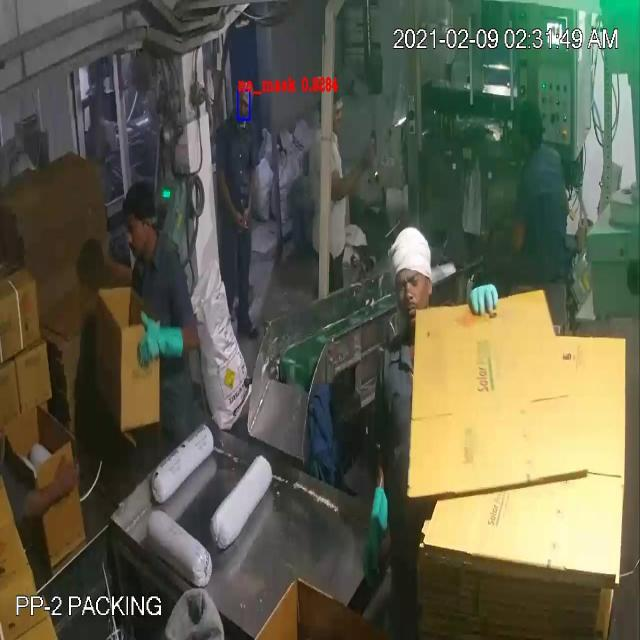gloves: (347, 473, 401, 603), (128, 303, 200, 381)
no-gloves: (15, 444, 89, 534), (325, 132, 387, 208), (213, 152, 248, 237), (239, 154, 259, 231)
